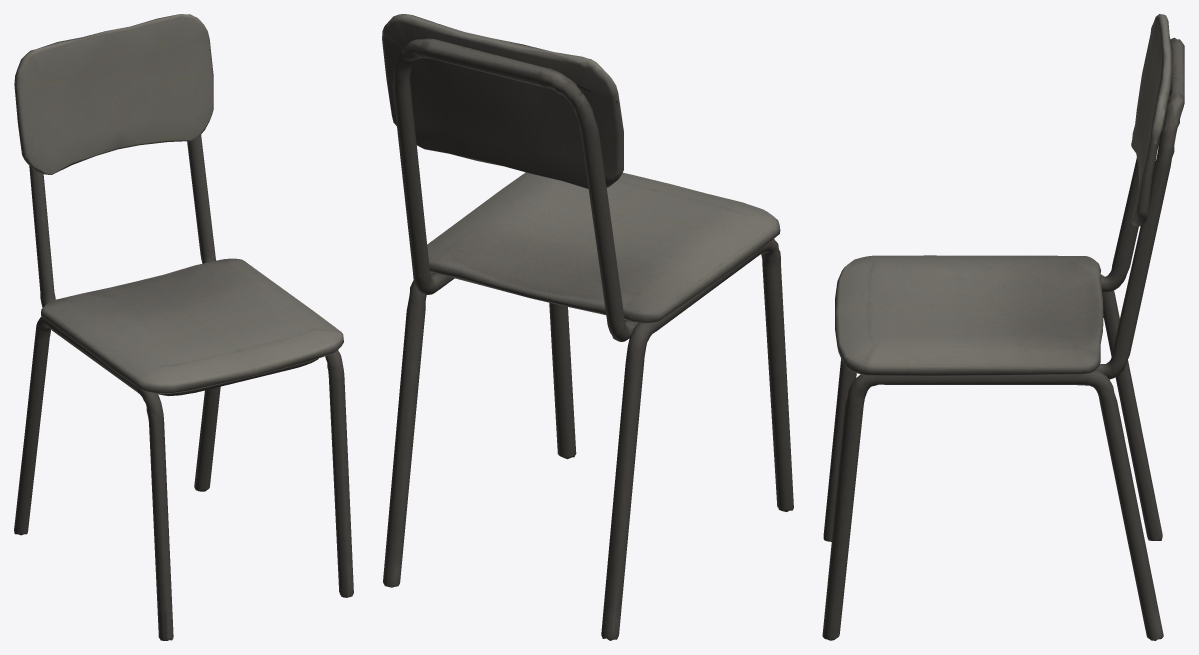
The model's file is sandalye_eski.glb.
The picture shows the model from 3 angles, left to right: view 1: azimuth 30°, elevation 25°; view 2: azimuth 150°, elevation 25°; view 3: azimuth 270°, elevation 25°; orthographic projection. The views are drawn at different scales.
Parts seen in each view (by area): view 1: mesh_node; view 2: mesh_node; view 3: mesh_node.
Part boxes in pixels (x1,y1,x2,y2): mesh_node: (14,14,353,640); mesh_node: (382,14,793,640); mesh_node: (822,14,1184,640).
Size of the model in its own units: 0.3835 by 0.85 by 0.5229.
1 material, 1 textured.
